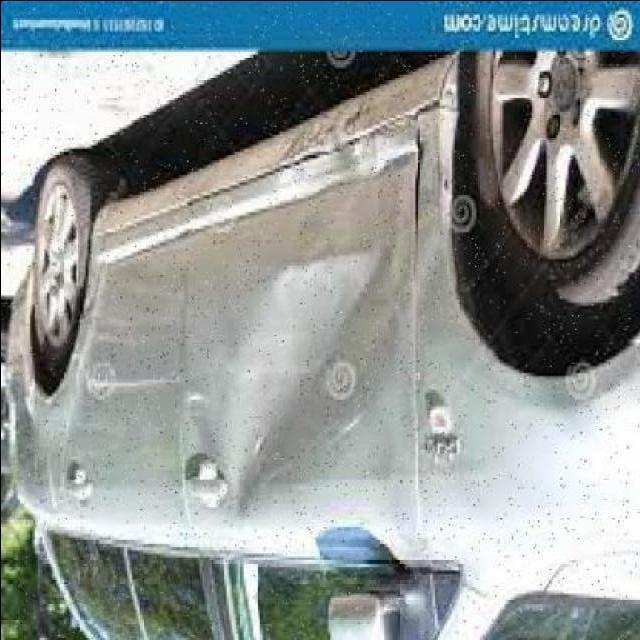RunningBoard-Dent: (162, 73, 458, 177)
doorouter-dent: (189, 192, 422, 554), (43, 235, 189, 537)
